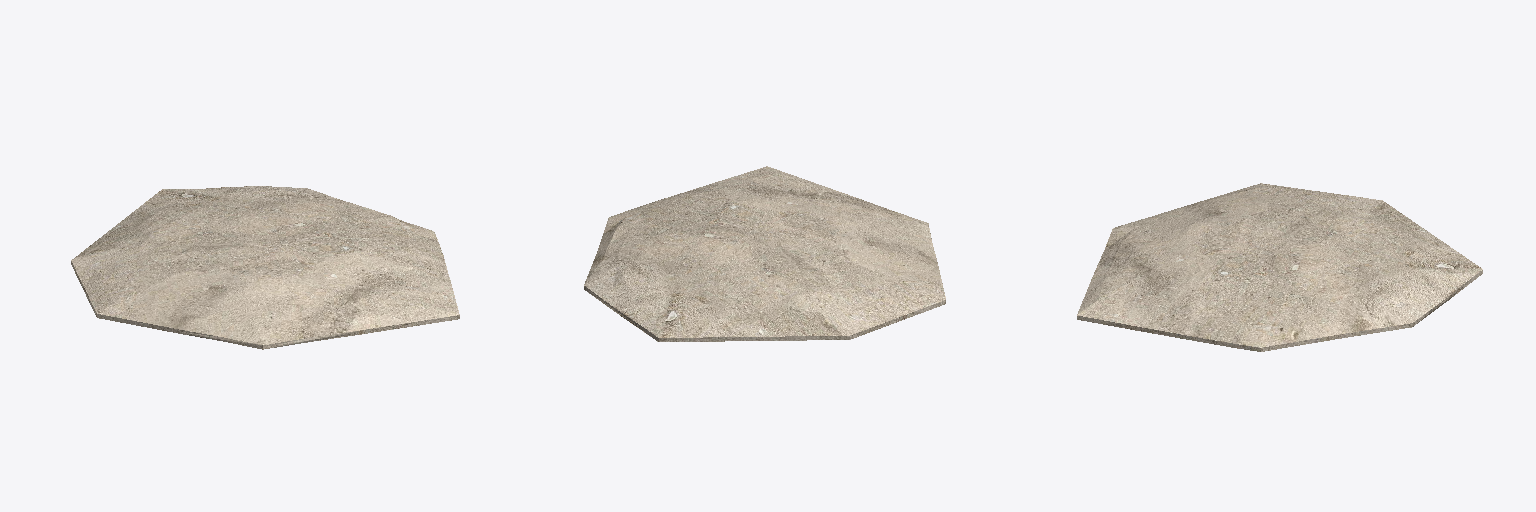
The picture shows the model from 3 angles: view 1: azimuth 30°, elevation 25°; view 2: azimuth 150°, elevation 25°; view 3: azimuth 270°, elevation 25°; orthographic projection.
Visible parts, largest first — view 1: Island; view 2: Island; view 3: Island.
Boxes of the visible parts, <box> form: Island: <box>71,186,459,349</box>; Island: <box>584,166,945,341</box>; Island: <box>1077,183,1482,351</box>.
Size of the model in its own units: 51.07 by 4 by 53.26.
1 materials, 1 textured.